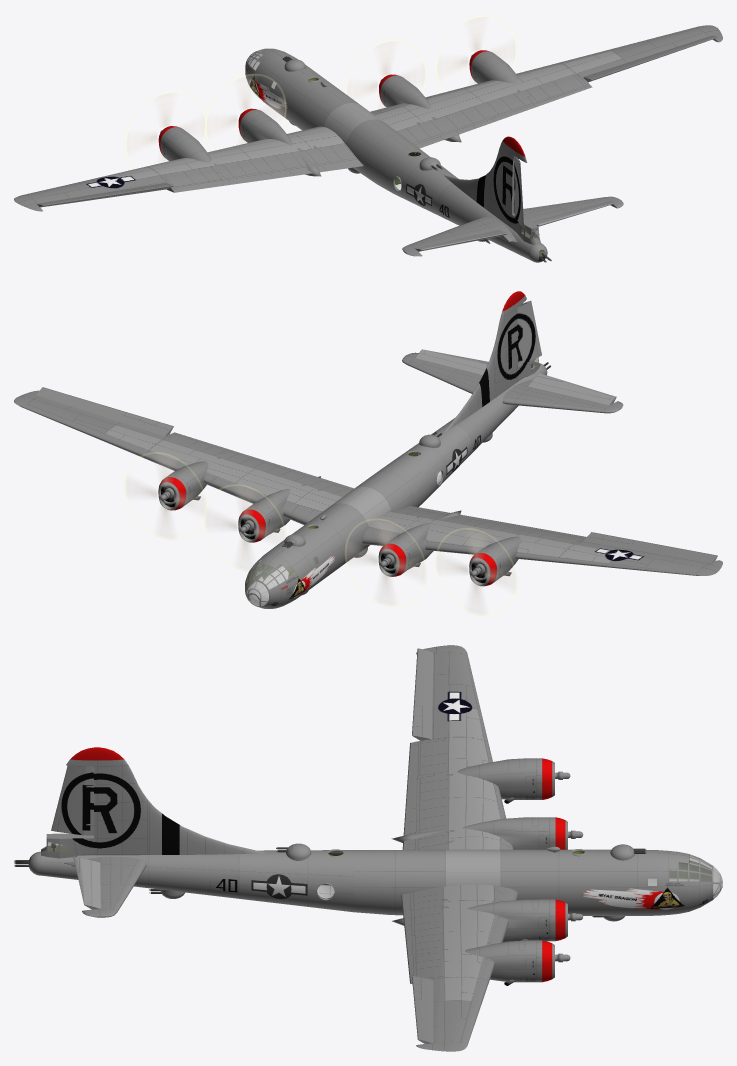
File: b29_flyt_6bg_npa35d.glb
The picture shows the model from 3 angles, top to bottom: view 1: azimuth 30°, elevation 25°; view 2: azimuth 150°, elevation 25°; view 3: azimuth 270°, elevation 25°; orthographic projection. The views are drawn at different scales.
Visible parts, largest first — view 1: wingR, wingL, fuse2, tail_vert, fuse3, tail_horz, fuse1, fuse4, prop1, prop3, prop2, engine3 (+9 smaller); view 2: wingR, wingL, fuse2, tail_vert, tail_horz, fuse1, fuse3, prop3, prop1, prop2, tail_elevator, prop4 (+10 smaller); view 3: wingL, fuse2, wingR, tail_vert, fuse1, fuse3, fuse4, engine4, engine1, engine2, engine3, tail_rudder (+7 smaller).
Part boxes in pixels (x1,y1,x2,y2): wingR: [370, 25, 722, 148]; wingL: [14, 126, 363, 211]; fuse2: [281, 73, 420, 191]; tail_vert: [444, 136, 540, 244]; fuse3: [384, 147, 458, 217]; tail_horz: [402, 196, 623, 256]; fuse1: [245, 48, 319, 118]; fuse4: [437, 184, 541, 260]; prop1: [125, 91, 206, 168]; prop3: [205, 74, 286, 150]; prop2: [436, 15, 516, 91]; engine3: [238, 108, 321, 176]; wingR: [14, 390, 353, 524]; wingL: [362, 506, 722, 575]; fuse2: [292, 458, 429, 578]; tail_vert: [443, 291, 540, 432]; tail_horz: [402, 352, 623, 413]; fuse1: [245, 533, 328, 608]; fuse3: [393, 423, 472, 499]; prop3: [345, 519, 426, 605]; prop1: [435, 528, 516, 615]; prop2: [125, 452, 205, 539]; tail_elevator: [415, 349, 616, 405]; prop4: [205, 484, 285, 571]; wingL: [402, 645, 513, 849]; fuse2: [354, 849, 598, 915]; wingR: [401, 884, 518, 1051]; tail_vert: [41, 747, 265, 858]; fuse1: [598, 849, 713, 915]; fuse3: [239, 850, 353, 912]; fuse4: [40, 852, 238, 898]; engine4: [392, 899, 567, 942]; engine1: [457, 758, 554, 799]; engine2: [465, 940, 554, 982]; engine3: [391, 817, 567, 849]; tail_rudder: [51, 765, 93, 835].
Size of the model in its own units: 139 by 28.65 by 102.
Materials: 33 (28 with a texture image).
